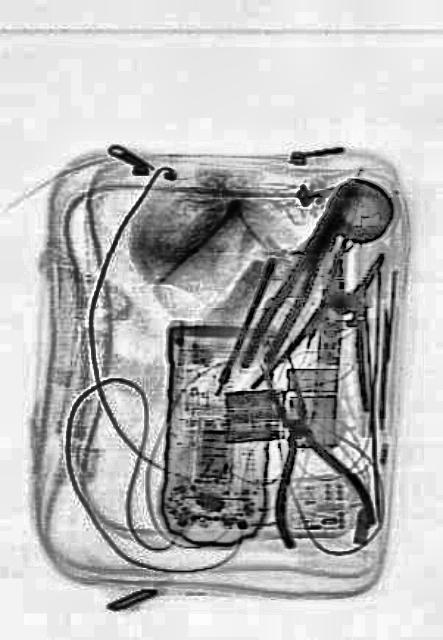Pliers: (254, 212, 412, 438), (235, 332, 377, 564), (234, 176, 358, 384)
